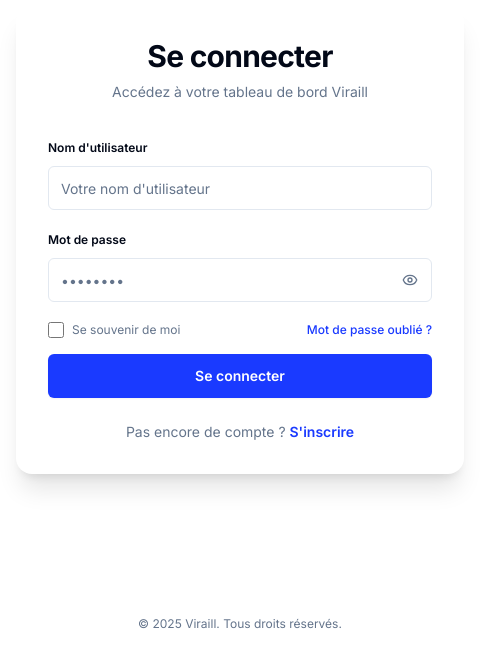
Test: Auth Flow Integration › Login Flow › should validate required fields on submit
Click the button "Se connecter".
click(240, 376)  # box [48,354,432,398]
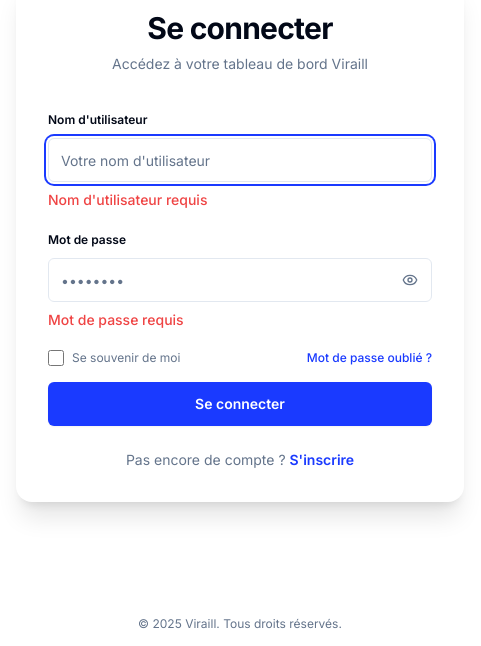
Result: the text "Nom d'utilisateur requis" is shown at [48,191,208,208]
Result: the text "Mot de passe requis" is shown at [48,311,184,328]
